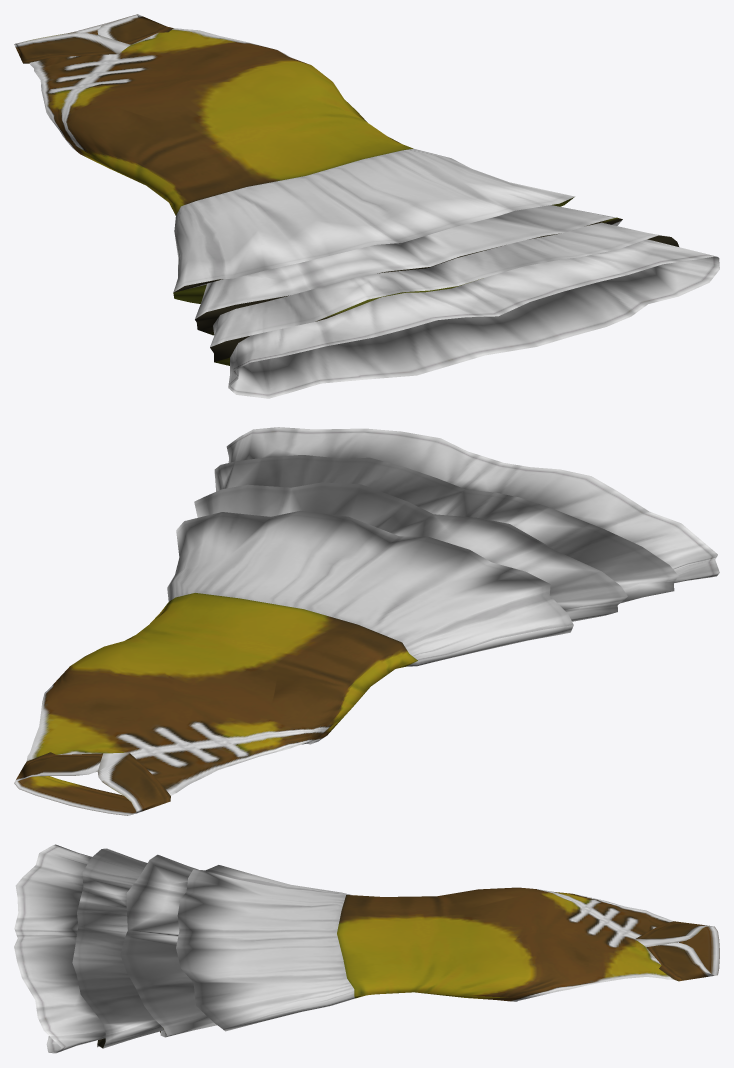
The model's file is FrilledCheongsam_Ground.fbx.
3 views of the same model, one above another, from view 1: azimuth 30°, elevation 25°; view 2: azimuth 150°, elevation 25°; view 3: azimuth 270°, elevation 25° (orthographic). The views are drawn at different scales.
Visible parts, largest first — view 1: FrilledCheongsam; view 2: FrilledCheongsam; view 3: FrilledCheongsam.
Part boxes in pixels (x1,y1,x2,y2): FrilledCheongsam: (14, 14, 719, 398); FrilledCheongsam: (14, 427, 719, 815); FrilledCheongsam: (14, 844, 719, 1053).
Bounding box in the file's own units: 0.3054 × 0.0391 × 0.4609.
